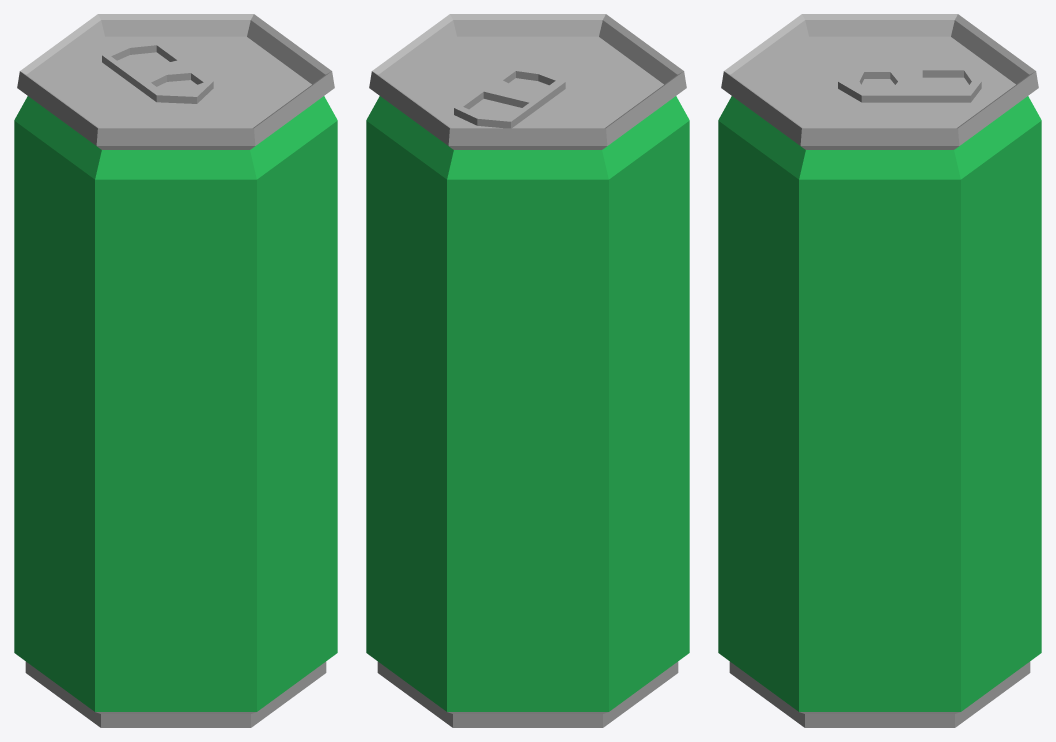
File: BeverageCan2Green.fbx
The picture shows the model from 3 angles, left to right: view 1: azimuth 30°, elevation 25°; view 2: azimuth 150°, elevation 25°; view 3: azimuth 270°, elevation 25°; orthographic projection.
Visible parts, largest first — view 1: Cylinder; view 2: Cylinder; view 3: Cylinder.
Part boxes in pixels (x1,y1,x2,y2): Cylinder: (14,14,337,727); Cylinder: (366,14,689,727); Cylinder: (718,14,1041,727).
Size of the model in its own units: 0.1183 by 0.2802 by 0.1366.
